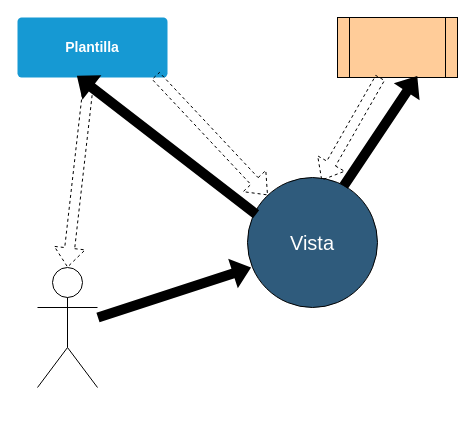
The diagram is 475 pixels wide and 426 high, and some of its shapes have lost their labels. The shapes that lost their labels are listed below. From the top down, each one's box as (x1, y1, x2, y2) in pixels, then its label:
(336, 16, 458, 78): Modelo
(36, 266, 98, 388): Usuario
